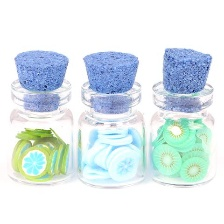bottle: (145, 77, 221, 187), (2, 76, 75, 185), (75, 78, 144, 190)
